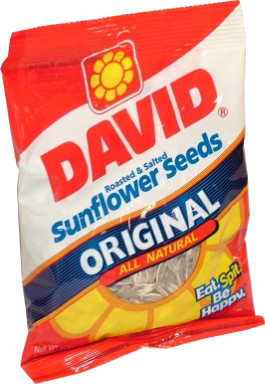grozi_79: (0, 0, 264, 384)
